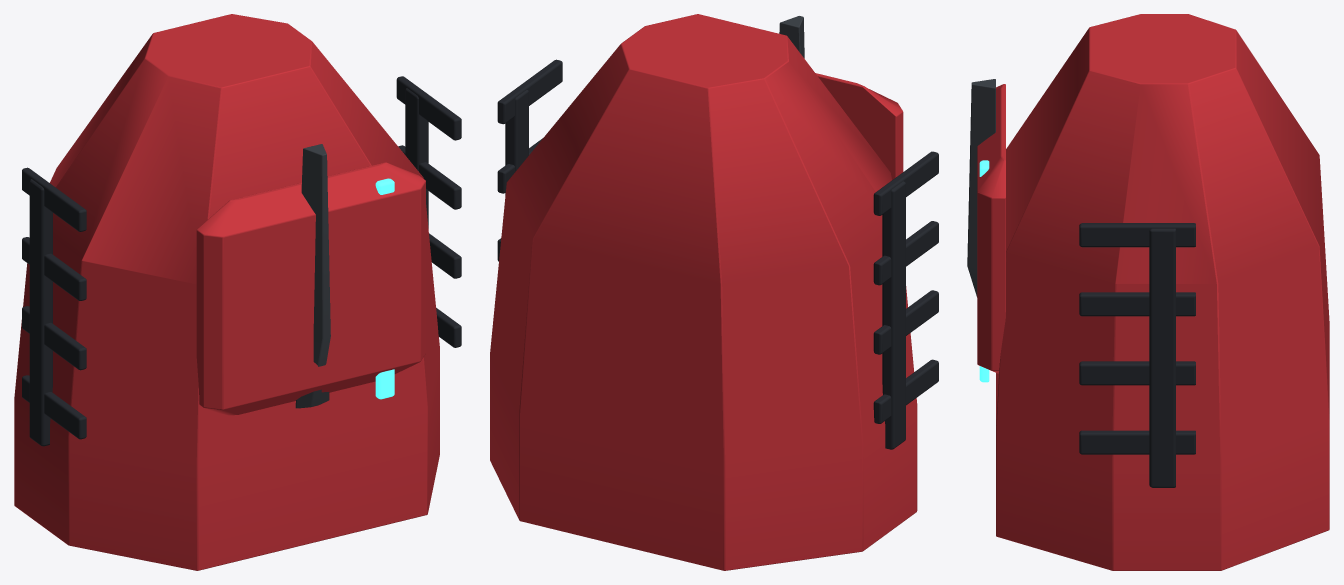
Rendered from QuadBodyFront_Set03_Overclock.fbx.
3 renders of one model, left to right at view 1: azimuth 30°, elevation 25°; view 2: azimuth 150°, elevation 25°; view 3: azimuth 270°, elevation 25°, orthographic.
Visible parts, largest first — view 1: QuadBodyFront_Set03_Overclock; view 2: QuadBodyFront_Set03_Overclock; view 3: QuadBodyFront_Set03_Overclock.
Part boxes in pixels (x1=…): QuadBodyFront_Set03_Overclock: x1=14, y1=14, x2=461, y2=570; QuadBodyFront_Set03_Overclock: x1=490, y1=14, x2=938, y2=570; QuadBodyFront_Set03_Overclock: x1=967, y1=14, x2=1329, y2=570.
Size of the model in its own units: 0.94 by 1 by 0.76.
